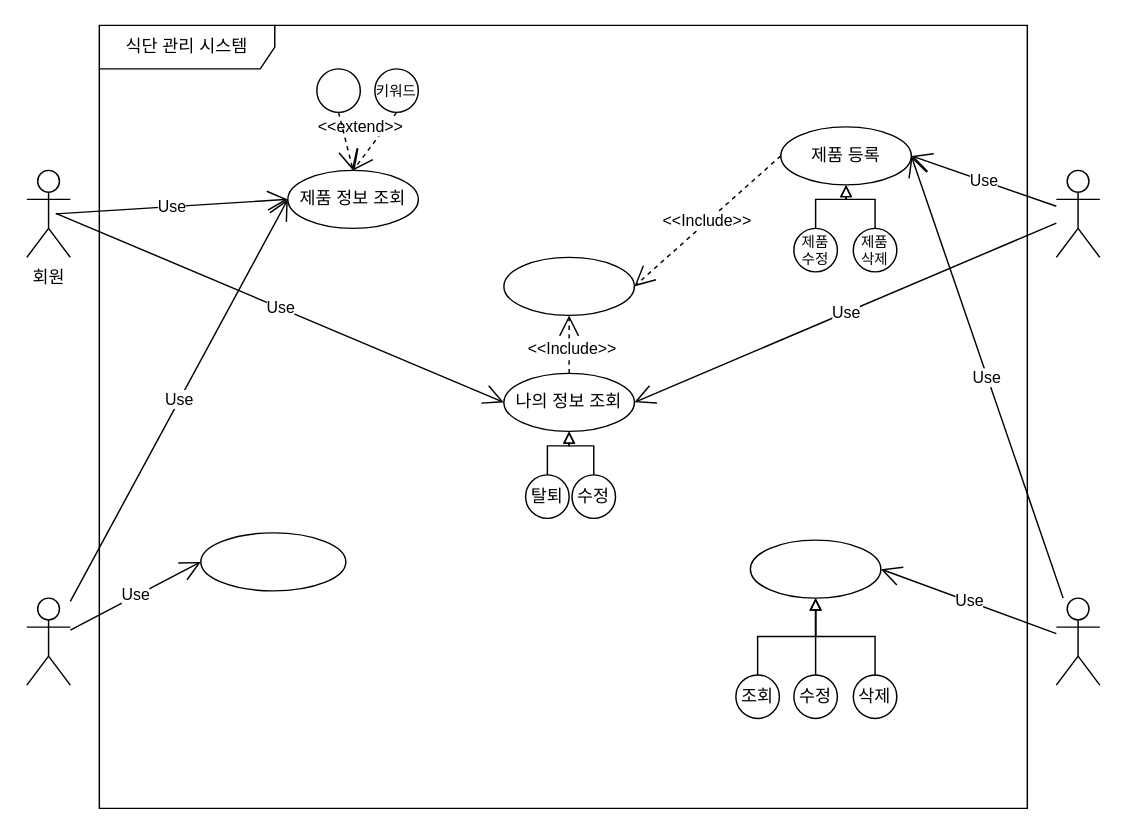
Image size: 1127x834. Some labels were removed from this diagram. Here are the shapes that lost their labels. From the top down, the centre of each, then its label:
At (x=337, y=89): "전체".
At (x=1077, y=213): "판매자".
At (x=568, y=285): "로그인".
At (x=272, y=561): "회원가입".
At (x=815, y=568): "회원 관리".
At (x=47, y=641): "비회원".
At (x=1077, y=641): "관리자".
